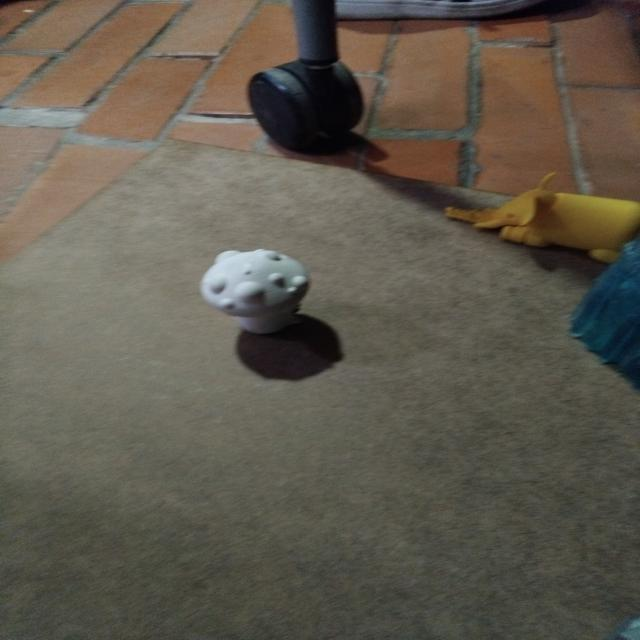Hongo: (181, 241, 327, 340)
